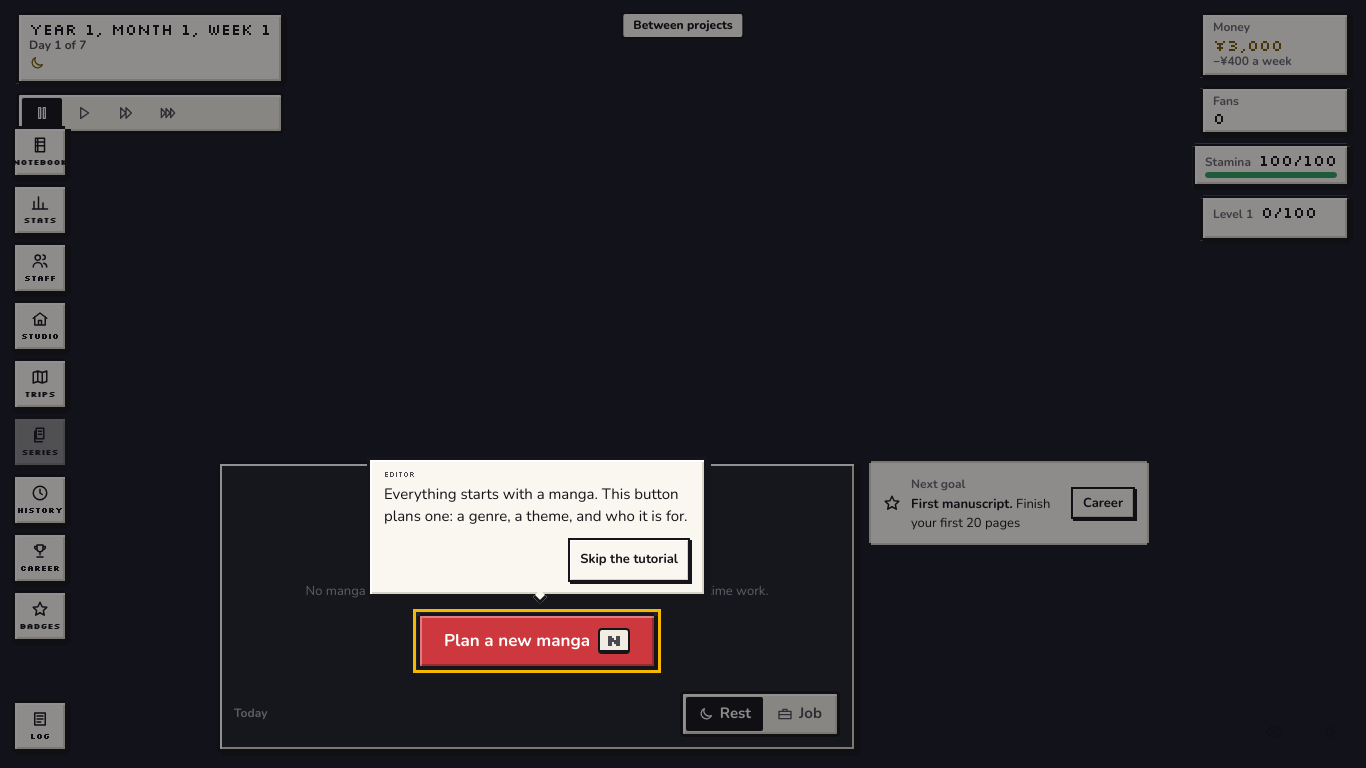
it: TutorialGuide: buttons › Skip ends the tutorial and the guide goes
Click the button "Skip the tutorial" at (629, 560), box [568,538,690,582]
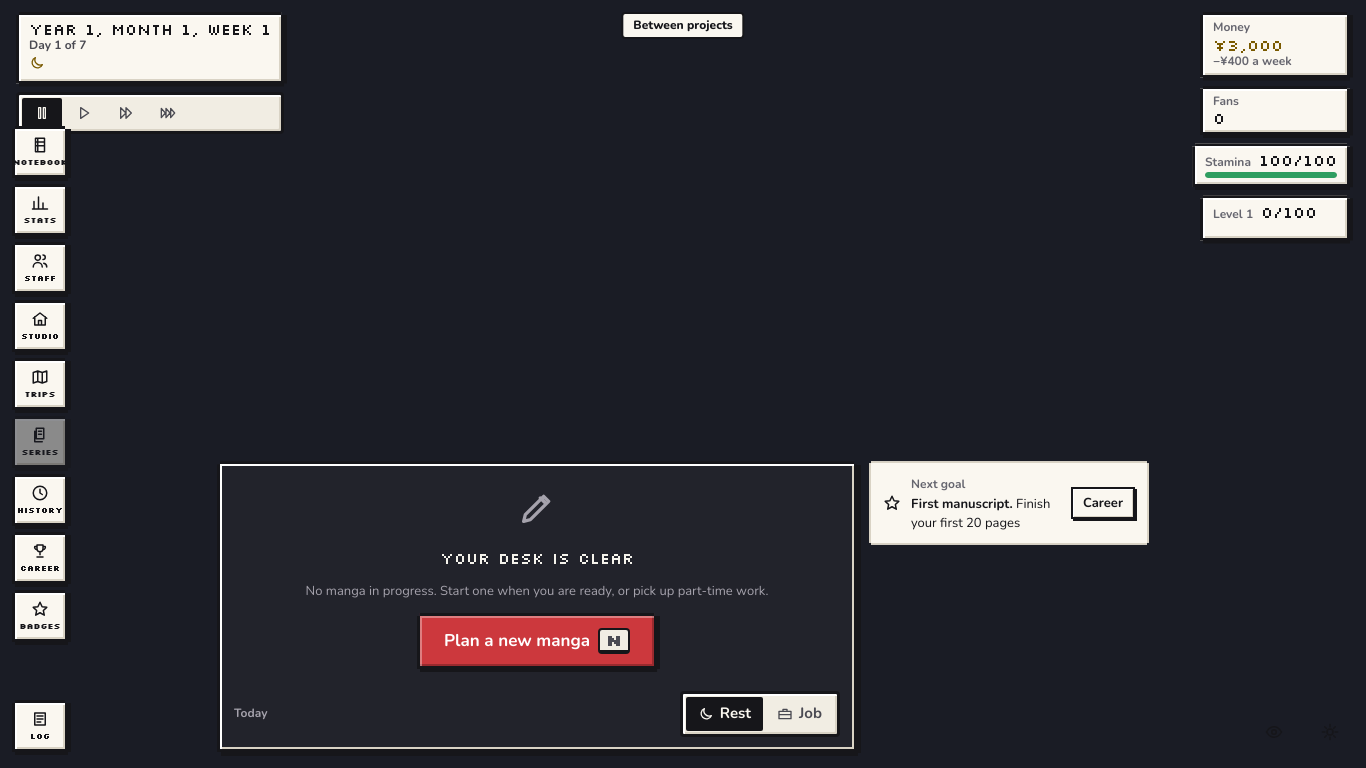
Now the element with class "tutorial-bubble" is gone
Now the element with class "tutorial-hole" is gone
